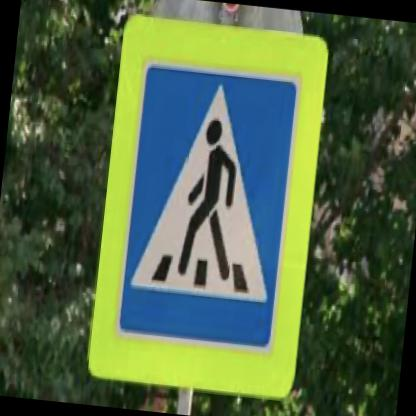crosswalk: (116, 60, 300, 348)
